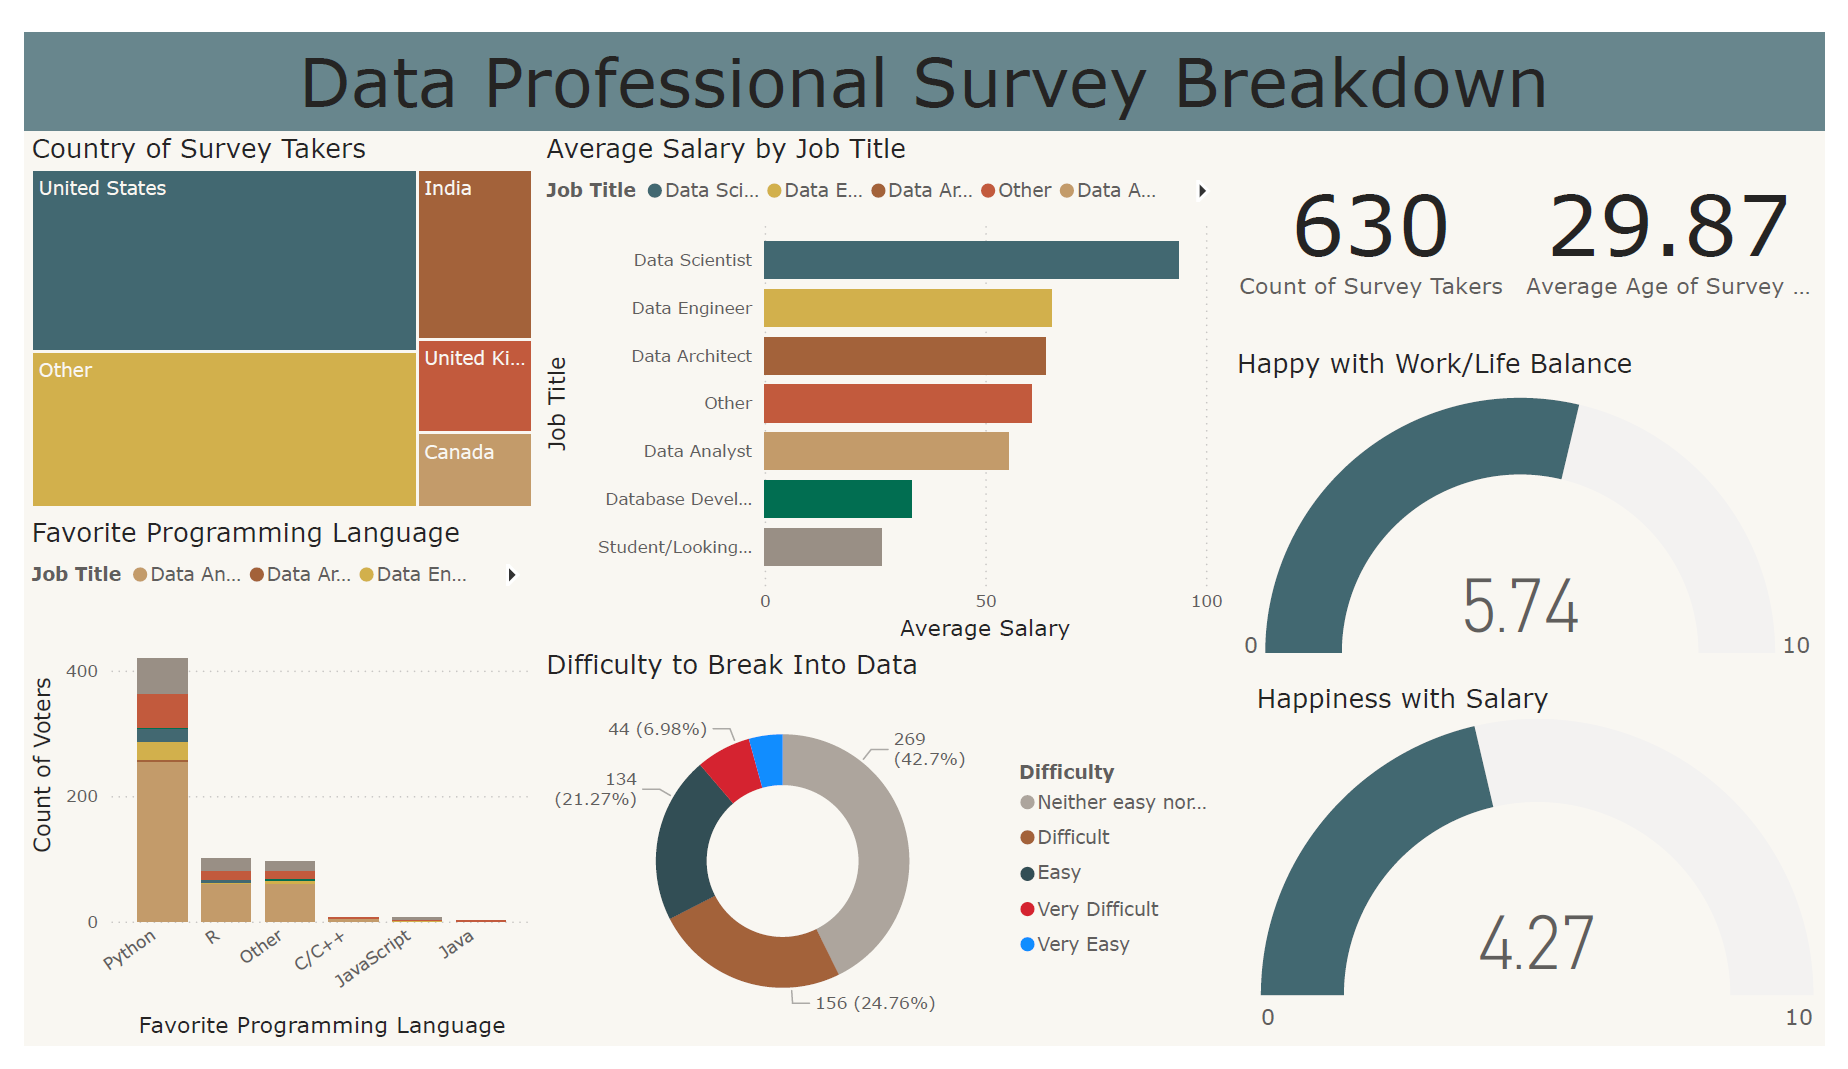

This screenshot's page, from the dashboard's own definition file:
{"tool":"powerbi","page":{"name":"Page 1","canvas":[1280,720],"ordinal":0},"visuals":[{"type":"textbox","box":[0,0,1280.3,69.9],"z":0},{"type":"card","fields":{"Values":["Count(Data Professional Survey.Unique ID)"]},"box":[856.7,69.9,201.7,145.2],"z":1000},{"type":"card","fields":{"Values":["Avg(Data Professional Survey.Q10 - Current Age)"]},"box":[1058.4,69.9,221.9,145.2],"z":2000},{"type":"barChart","title":"Average Salary by Job Title","fields":{"Category":["Data Professional Survey.Q1 - Which Title Best Fits your Current Role?.1"],"Y":["Avg(Data Professional Survey.Average Salary)"],"Series":["Data Professional Survey.Q1 - Which Title Best Fits your Current Role?.1"]},"box":[365.8,69.9,490.9,367.1],"z":3000},{"type":"columnChart","title":"Favorite Programming Language","fields":{"Category":["Data Professional Survey.Q5 - Favorite Programming Language.1"],"Y":["CountNonNull(Data Professional Survey.Unique ID)"],"Series":["Data Professional Survey.Q1 - Which Title Best Fits your Current Role?.1"]},"box":[0,342.9,365.8,376.6],"z":4000},{"type":"treemap","title":"Country of Survey Takers","fields":{"Group":["Data Professional Survey.Q11 - Which Country do you live in?.1"],"Values":["CountNonNull(Data Professional Survey.Q11 - Which Country do you live in?.1)"]},"box":[0,69.9,365.8,273],"z":5000},{"type":"gauge","title":"Happy with Work/Life Balance","fields":{"Y":["Avg(Data Professional Survey.Q6 - How Happy are you in your Current Position with the following? (Work/Life Balance))"],"MinValue":["Min(Data Professional Survey.Q6 - How Happy are you in your Current Position with the following? (Work/Life Balance))"],"MaxValue":["Max(Data Professional Survey.Q6 - How Happy are you in your Current Position with the following? (Work/Life Balance))1"]},"box":[856.7,223.2,423.6,238],"z":6000},{"type":"gauge","title":"Happiness with Salary","fields":{"Y":["Avg(Data Professional Survey.Q6 - How Happy are you in your Current Position with the following? (Salary))"],"MinValue":["Min(Data Professional Survey.Q6 - How Happy are you in your Current Position with the following? (Salary))"],"MaxValue":["Max(Data Professional Survey.Q6 - How Happy are you in your Current Position with the following? (Salary))"]},"box":[871.4,461.3,408.8,258.2],"z":7000},{"type":"donutChart","title":"Difficulty to Break Into Data","fields":{"Y":["CountNonNull(Data Professional Survey.Average Salary)"],"Category":["Data Professional Survey.Q7 - How difficult was it for you to break into Data?"]},"box":[365.8,437.1,490.9,282.4],"z":8000}]}

Visuals, with their boxes in screenshot pixels (x1, y1, x2, y2), scaled from the page's 1280x720 canvas onto the 1848x1069 screenshot:
textbox: detection(0, 0, 1847, 104)
card - Count(Data Professional Survey.Unique ID): detection(1237, 104, 1528, 319)
card - Avg(Data Professional Survey.Q10 - Current Age): detection(1528, 104, 1847, 319)
"Average Salary by Job Title" barChart: detection(528, 104, 1237, 649)
"Favorite Programming Language" columnChart: detection(0, 509, 528, 1068)
"Country of Survey Takers" treemap: detection(0, 104, 528, 509)
"Happy with Work/Life Balance" gauge: detection(1237, 331, 1847, 685)
"Happiness with Salary" gauge: detection(1258, 685, 1847, 1068)
"Difficulty to Break Into Data" donutChart: detection(528, 649, 1237, 1068)
